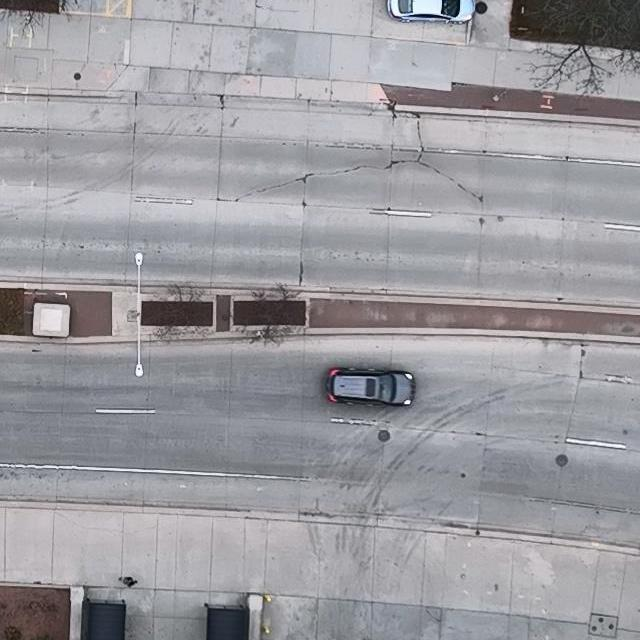car: (325, 367, 416, 408), (385, 0, 477, 24)
